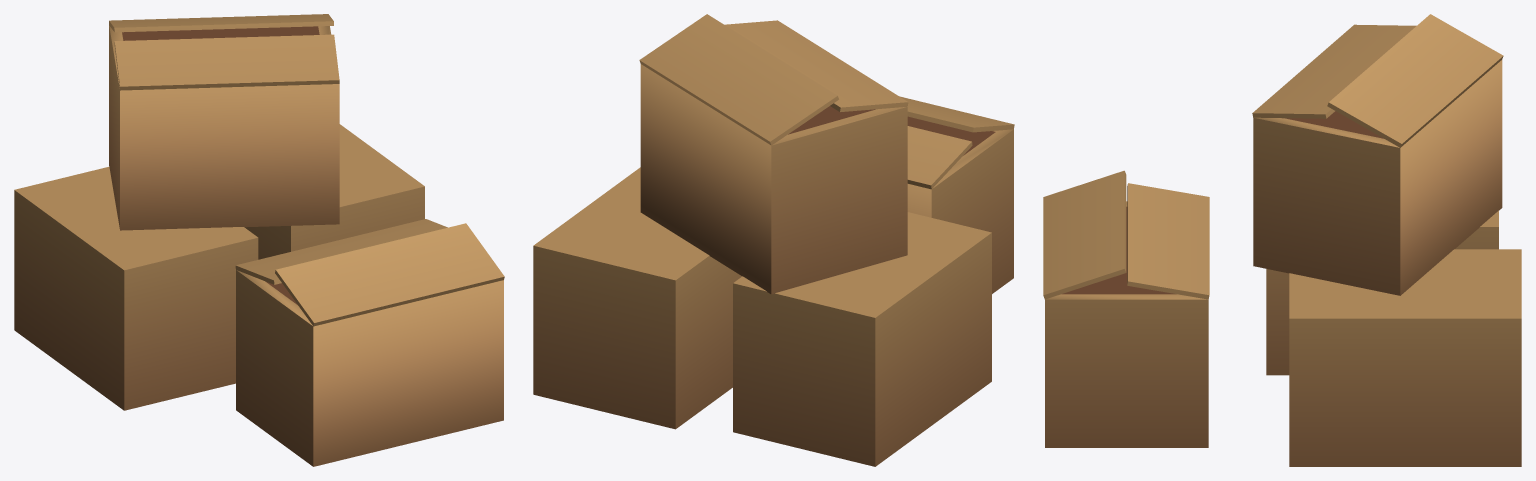
Rendered from boxes.fbx.
The picture shows the model from 3 angles, left to right: view 1: azimuth 30°, elevation 25°; view 2: azimuth 150°, elevation 25°; view 3: azimuth 270°, elevation 25°; orthographic projection. The views are drawn at different scales.
Parts seen in each view (by area): view 1: boxes; view 2: boxes; view 3: boxes.
Part boxes in pixels (x1,y1,x2,y2): boxes: [14, 14, 504, 466]; boxes: [533, 14, 1014, 466]; boxes: [1043, 14, 1521, 466].
Bounding box in the file's own units: 203 × 193 × 256.
Materials: 1 (1 with a texture image).
